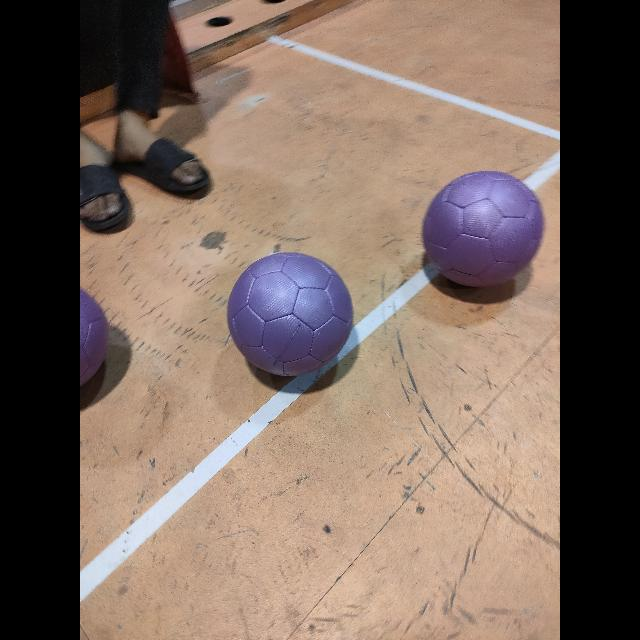P: (228, 252, 352, 376), (423, 171, 543, 287), (80, 288, 108, 386)
